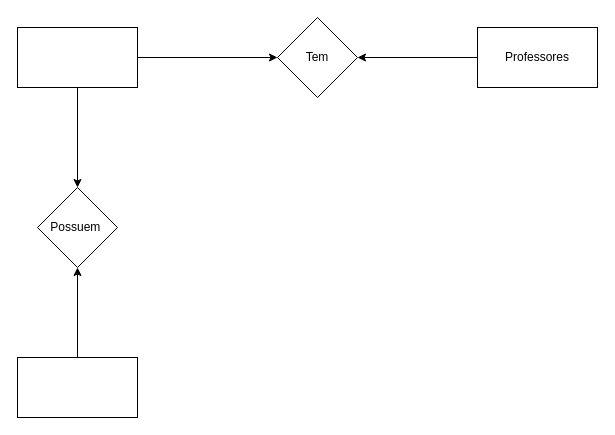
The diagram is 615 pixels wide and 435 high, and some of its shapes have lost their labels. The shapes that lost their labels are listed below. From the top down, each one's centre as x and y in pixels, then its label:
At point (77, 57): "Turma".
At point (77, 387): "Salas".
